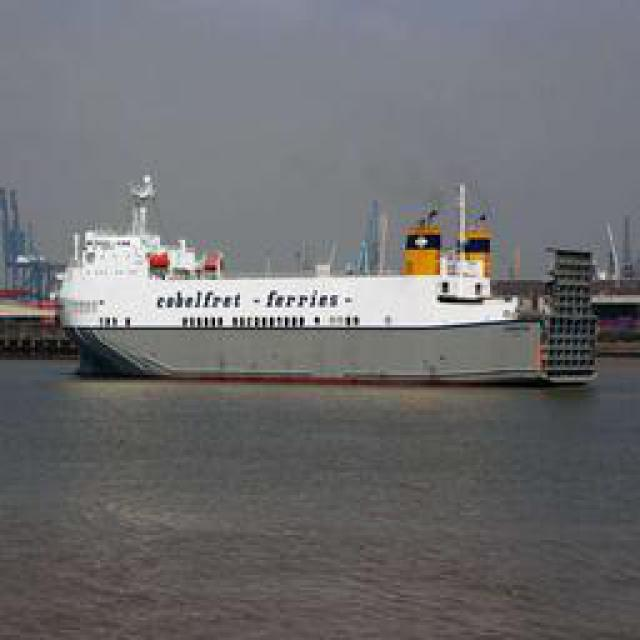Ship: (40, 175, 618, 383)
